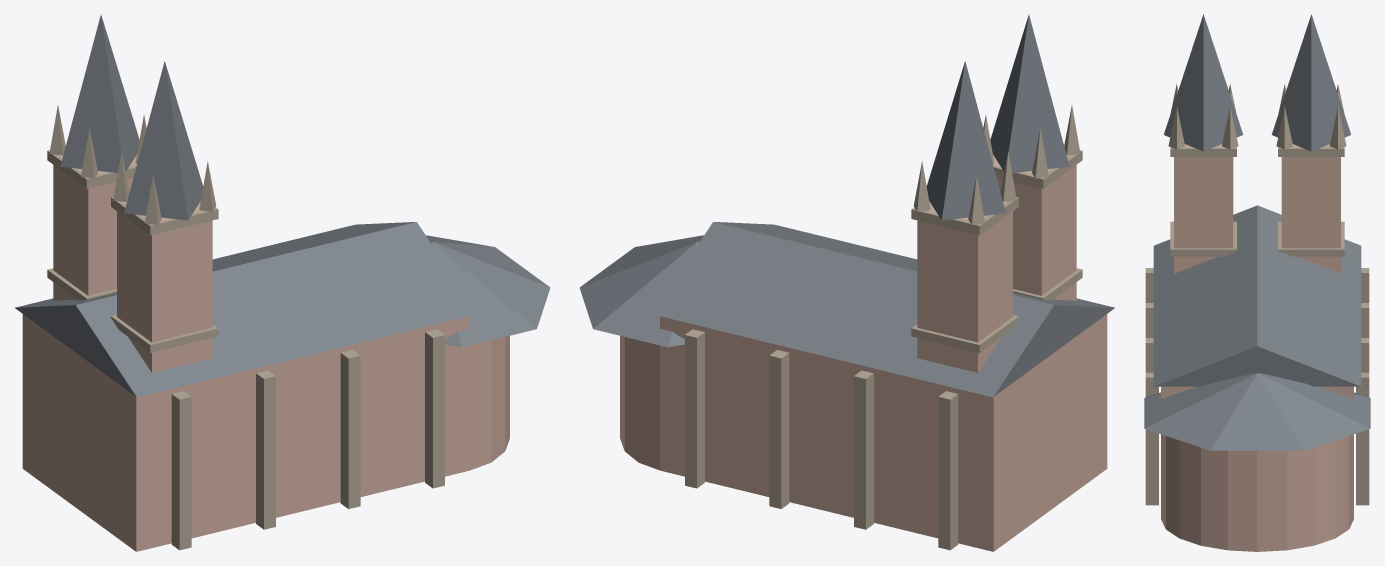
Rendered from covadonga.glb.
3 views of the same model, side by side, from view 1: azimuth 30°, elevation 25°; view 2: azimuth 150°, elevation 25°; view 3: azimuth 270°, elevation 25° (orthographic). The views are drawn at different scales.
Size of the model in its own units: 58.99 by 58 by 30.57.
